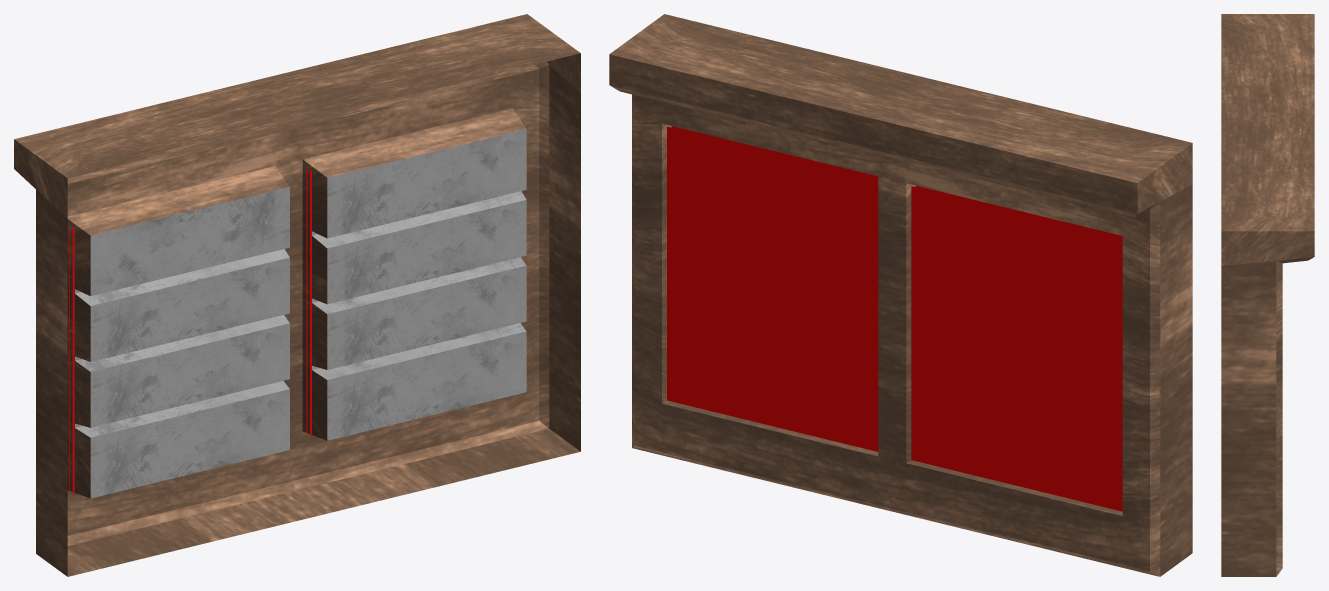
File: trophy case.fbx
3 views of the same model, side by side, from view 1: azimuth 30°, elevation 25°; view 2: azimuth 150°, elevation 25°; view 3: azimuth 270°, elevation 25° (orthographic). The views are drawn at different scales.
Visible parts, largest first — view 1: trophy_case1, trophy_case_window1, trophy_case_window; view 2: trophy_case1, trophy_case_window1, trophy_case_window; view 3: trophy_case1.
Boxes of the visible parts, x1,y1,x2,y2 form: trophy_case1: (14, 14, 580, 576); trophy_case_window1: (69, 225, 75, 493); trophy_case_window: (306, 167, 312, 435); trophy_case1: (609, 14, 1192, 576); trophy_case_window1: (911, 185, 1122, 511); trophy_case_window: (667, 126, 878, 451); trophy_case1: (1221, 14, 1314, 576).
Size of the model in its own units: 610 by 453 by 110.
